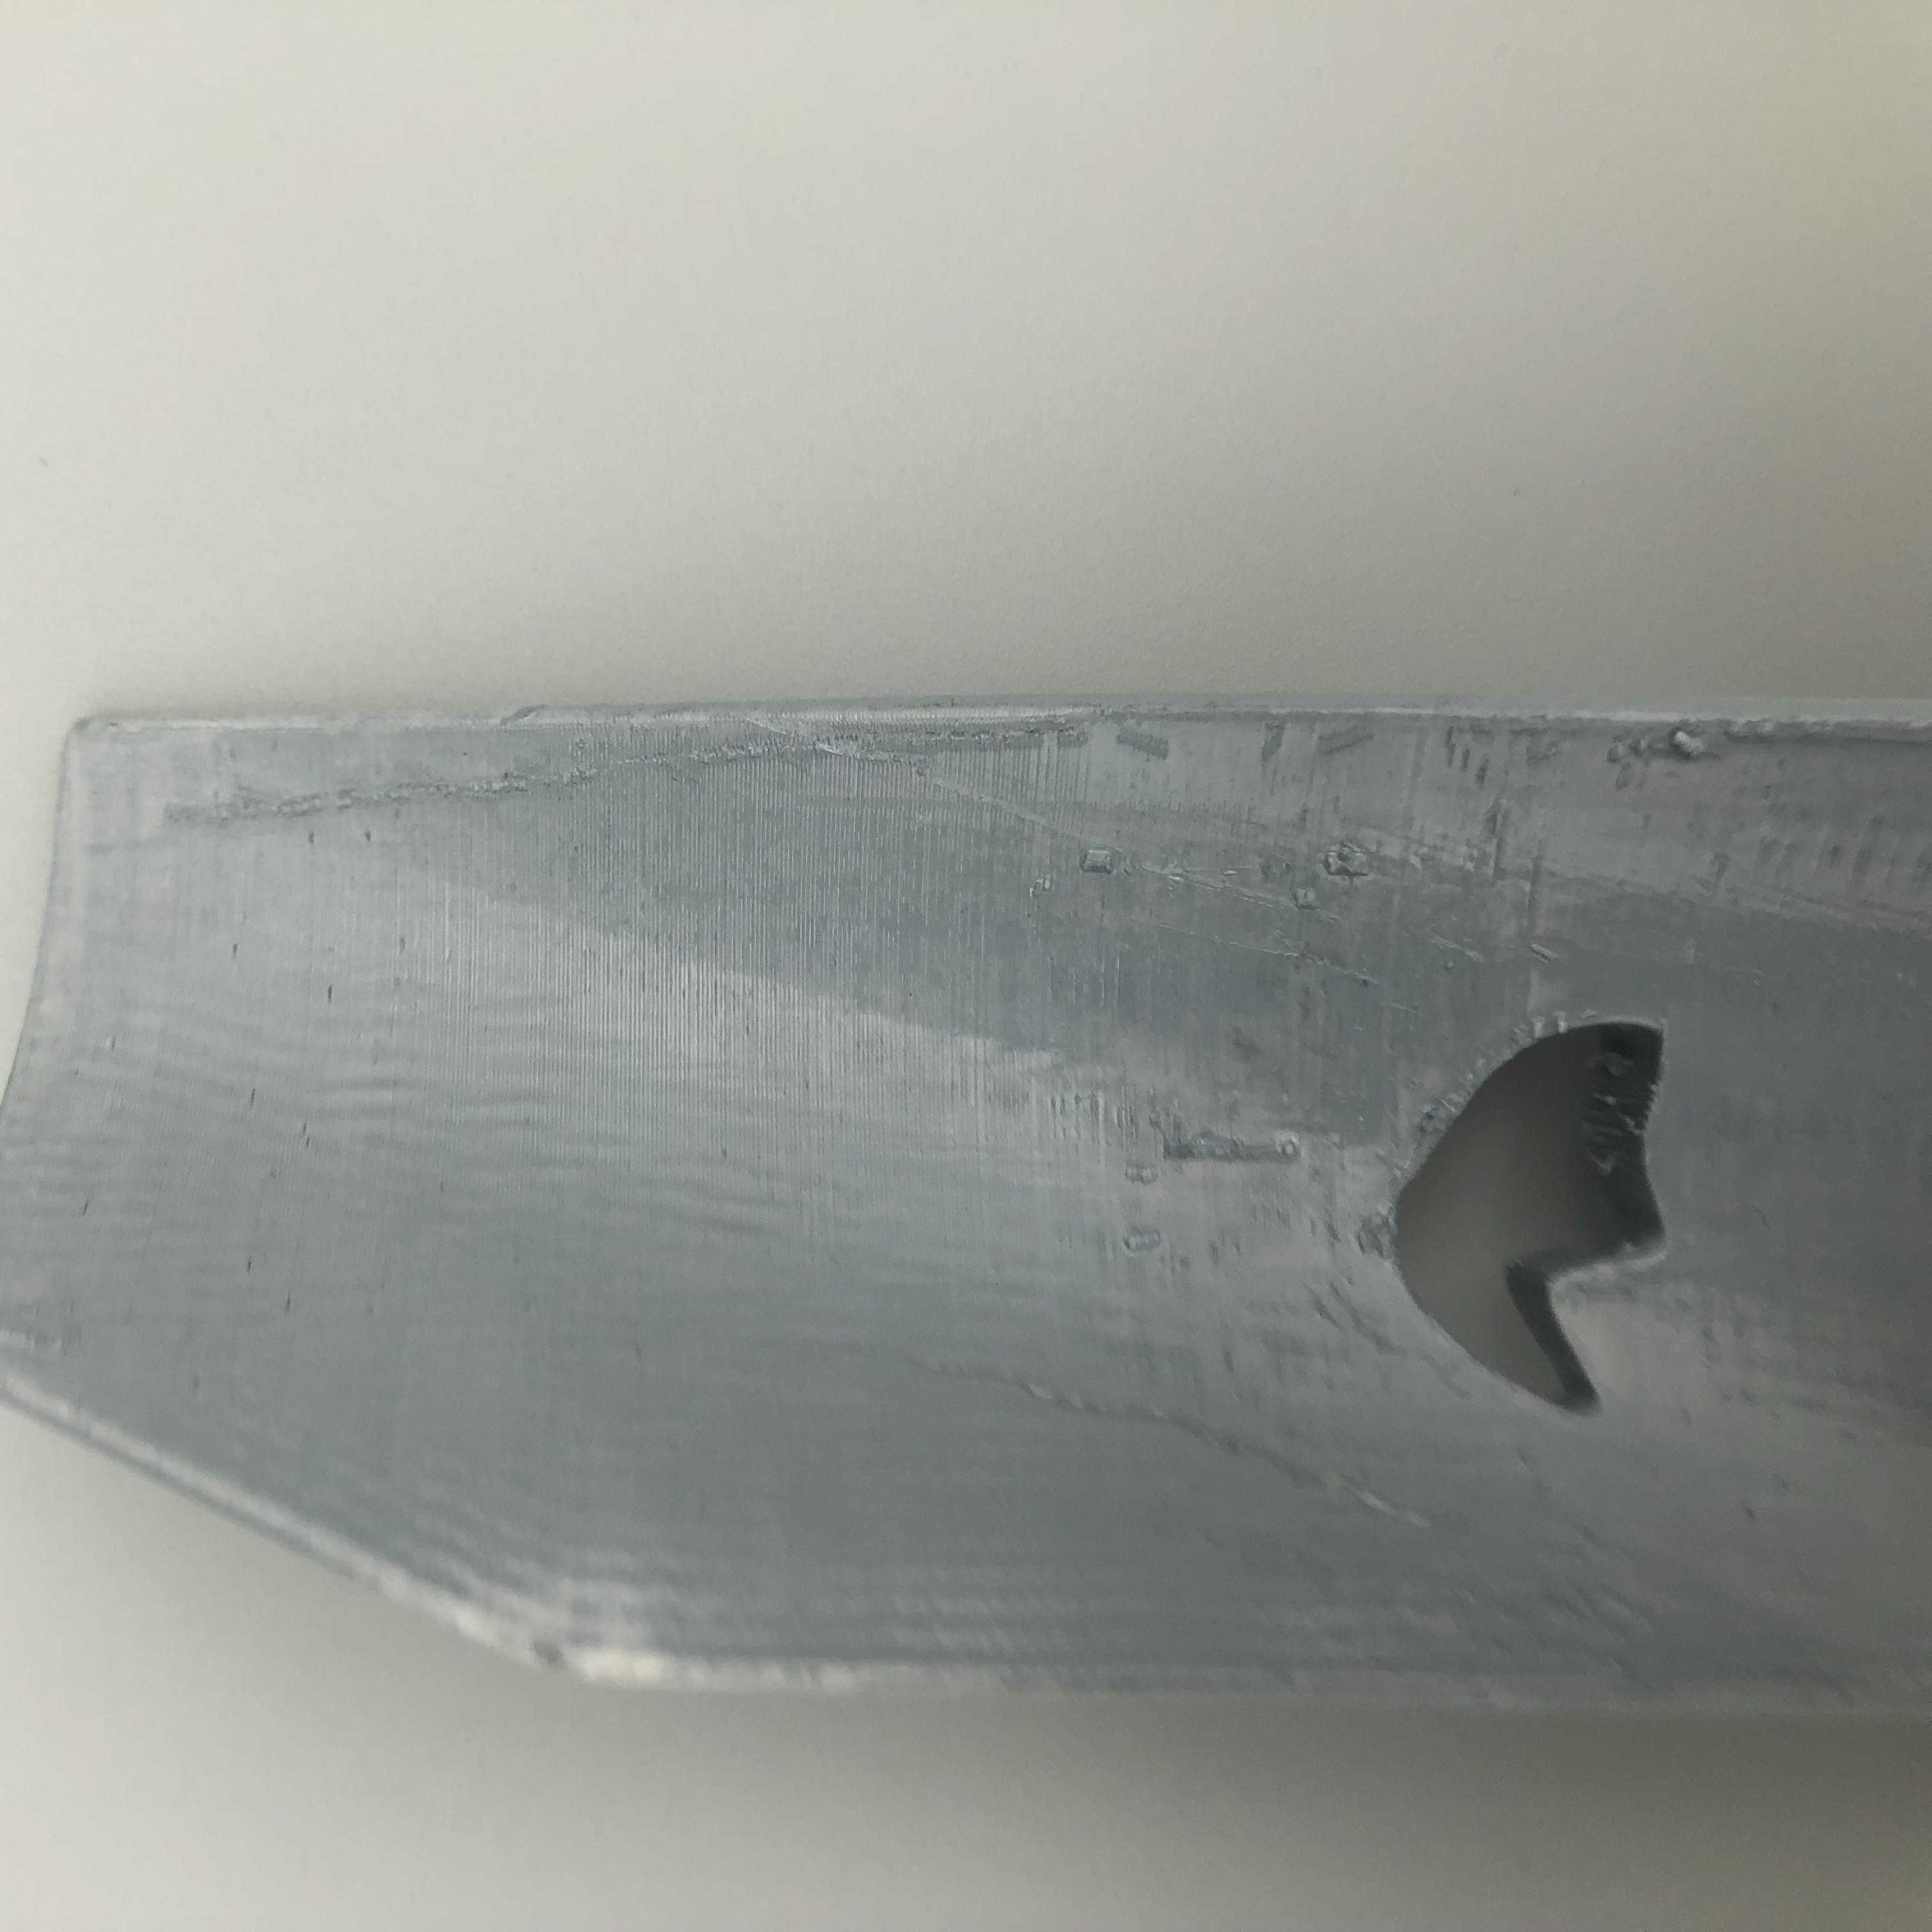breakdown: (1373, 952, 1679, 1424)
